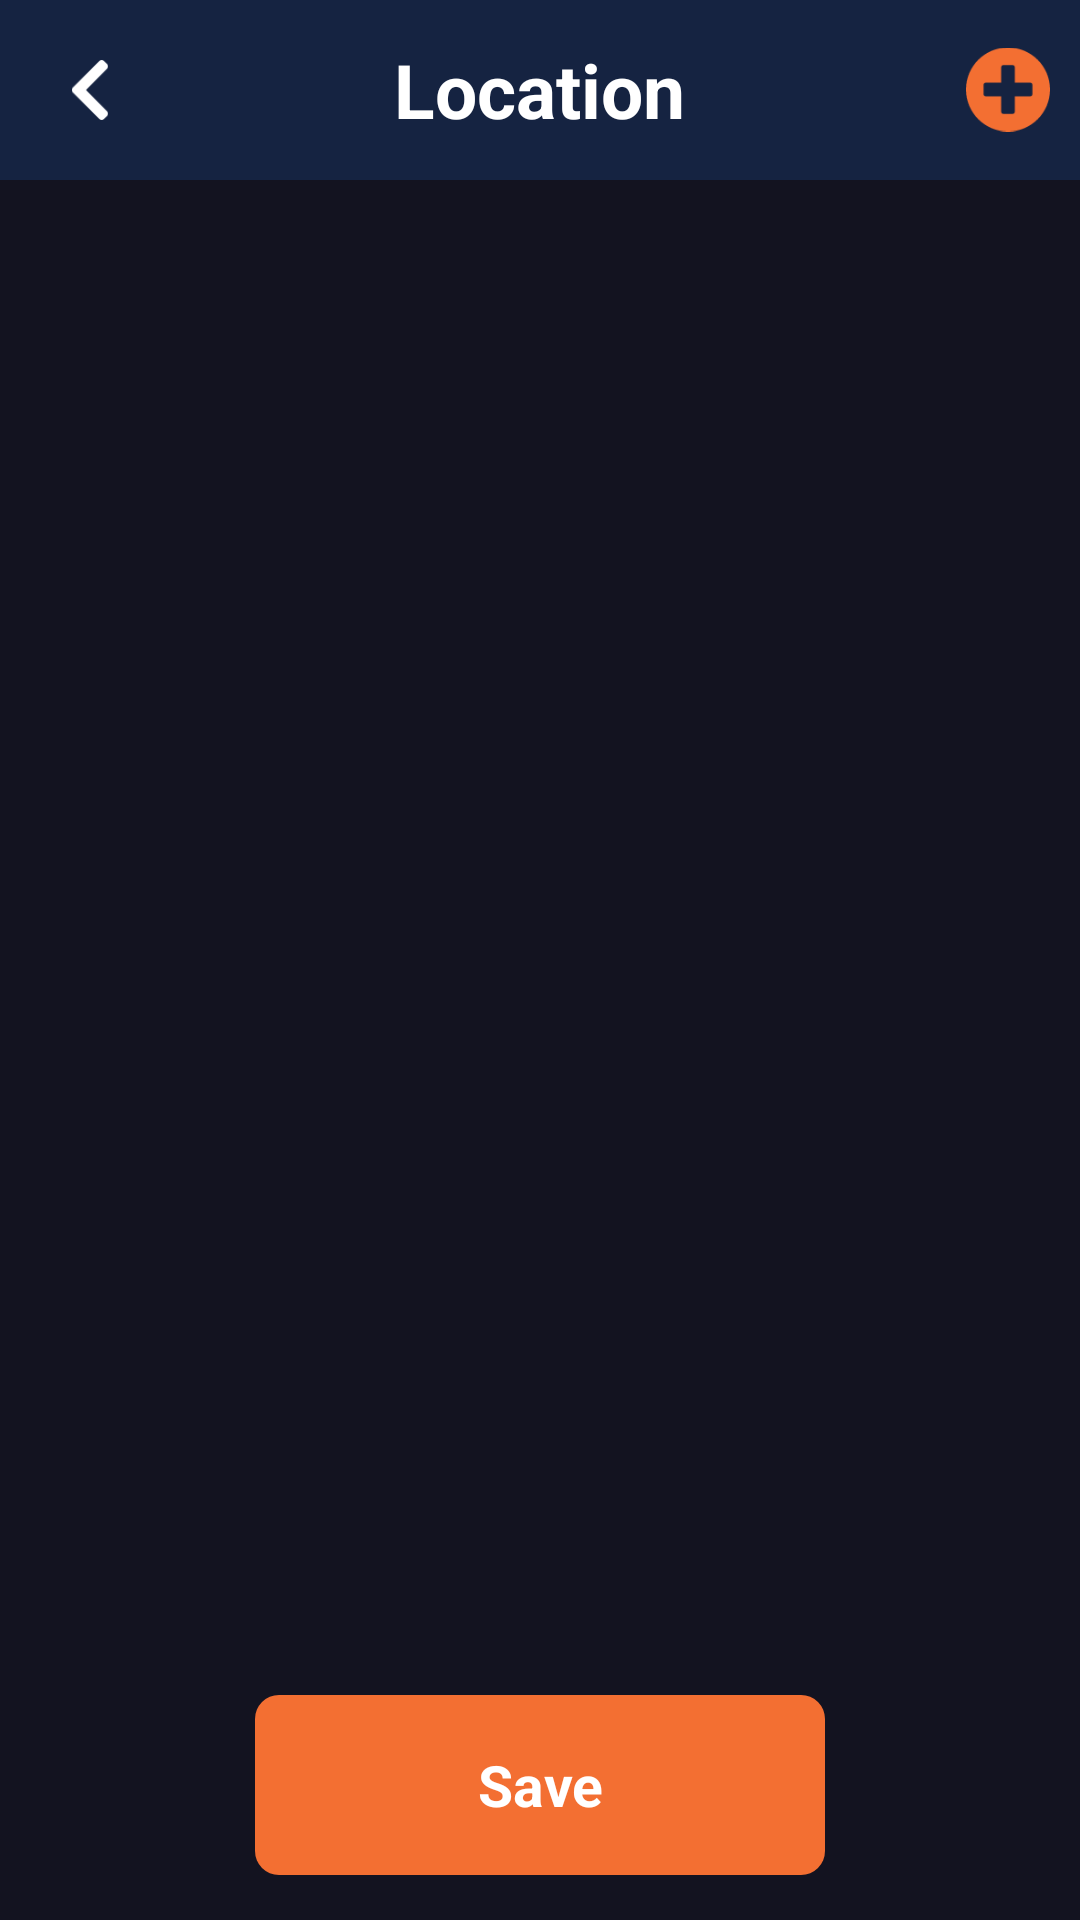

Icons on this 1080x1920 Android screen, each with its box as (x1, y1, x2, y2):
add: (966, 48, 1050, 132)
back: (72, 60, 108, 120)
